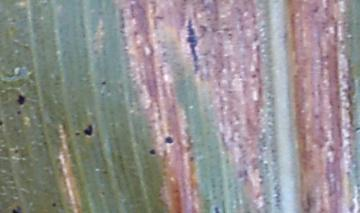tarspot: (180, 15, 207, 74), (184, 133, 196, 154), (151, 14, 166, 30), (83, 123, 93, 140), (15, 92, 26, 106), (8, 204, 23, 213), (163, 135, 175, 145), (148, 147, 157, 157), (98, 78, 107, 87), (212, 205, 222, 213), (353, 124, 360, 135), (12, 146, 20, 155), (50, 200, 58, 208), (249, 72, 257, 80), (188, 154, 195, 163), (73, 130, 81, 137), (133, 29, 139, 37), (15, 109, 23, 115), (253, 67, 260, 73), (1, 118, 4, 130)
